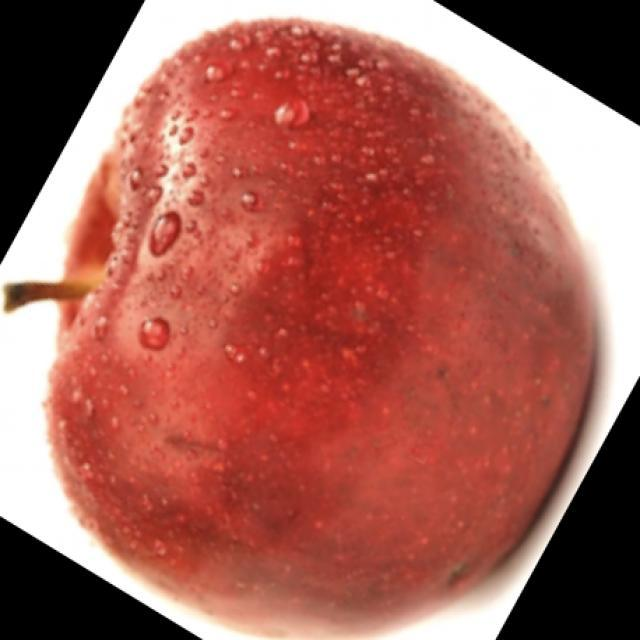Fresh Apple: (95, 28, 592, 610)
